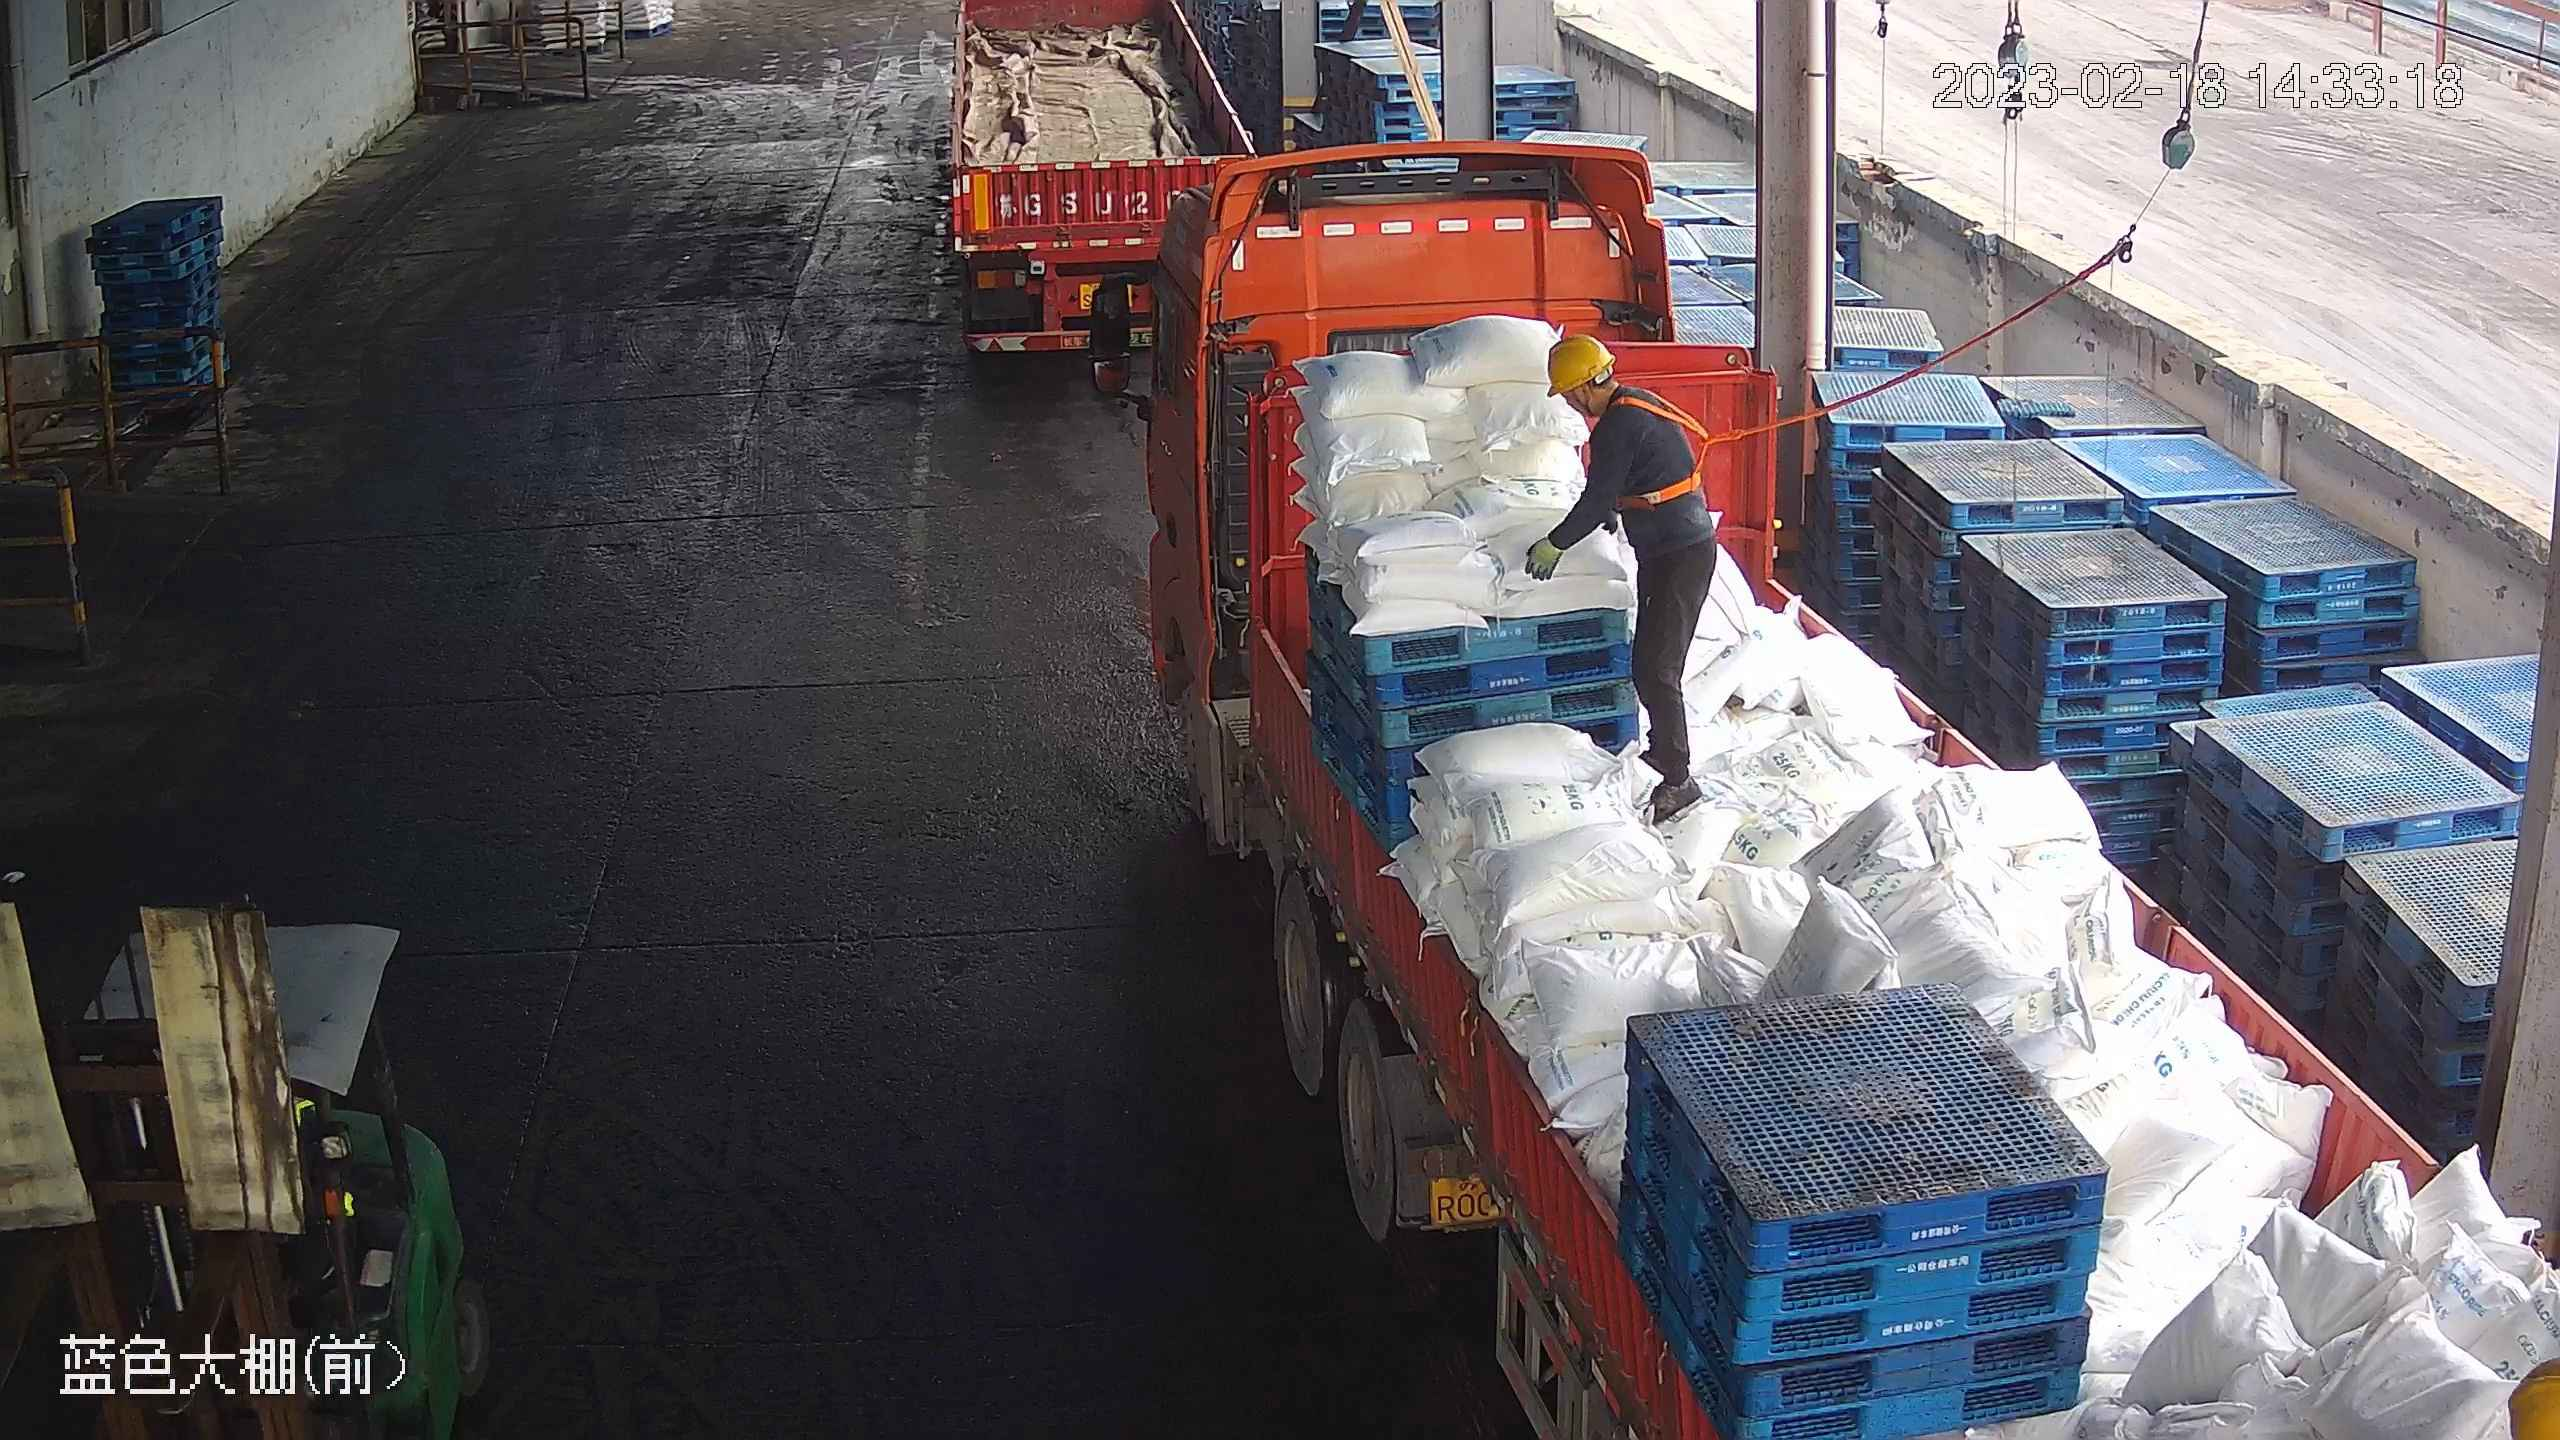belt: (1615, 384, 1739, 508)
head: (1540, 332, 1701, 500)
helmet: (1542, 333, 1617, 398)
people: (1523, 332, 1720, 830)
truck: (1088, 132, 2560, 1428), (940, 1, 1254, 377)
